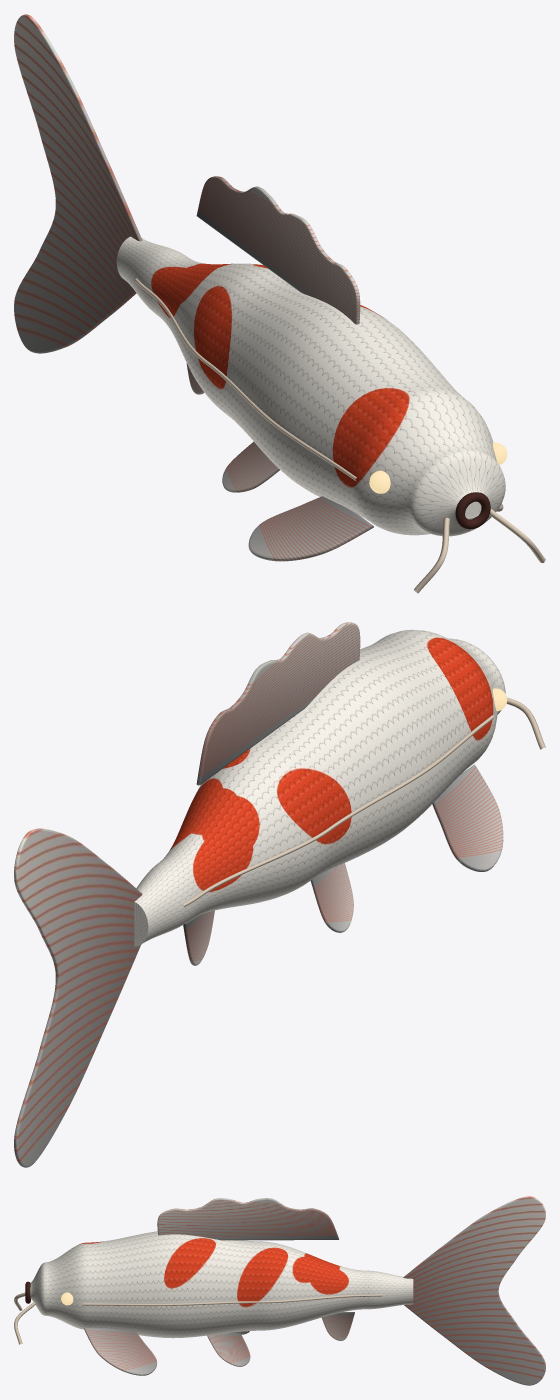
Rendered from koi_kohaku.glb.
3 views of the same model, one above another, from view 1: azimuth 30°, elevation 25°; view 2: azimuth 150°, elevation 25°; view 3: azimuth 270°, elevation 25° (orthographic). The views are drawn at different scales.
Visible parts, largest first — view 1: skin, fin, ridge, mouth; view 2: skin, fin, ridge; view 3: skin, fin, ridge.
Boxes of the visible parts, x1,y1,x2,y2 form: skin: [116, 236, 505, 536]; fin: [14, 14, 503, 561]; ridge: [135, 278, 545, 593]; mouth: [455, 492, 490, 529]; skin: [134, 629, 505, 946]; fin: [14, 622, 503, 1167]; ridge: [183, 697, 545, 907]; skin: [30, 1231, 413, 1338]; fin: [84, 1196, 545, 1385]; ridge: [14, 1292, 382, 1344].
Size of the model in its own units: 1.33 by 1.78 by 4.54.
Materials: 5 (2 with a texture image).
